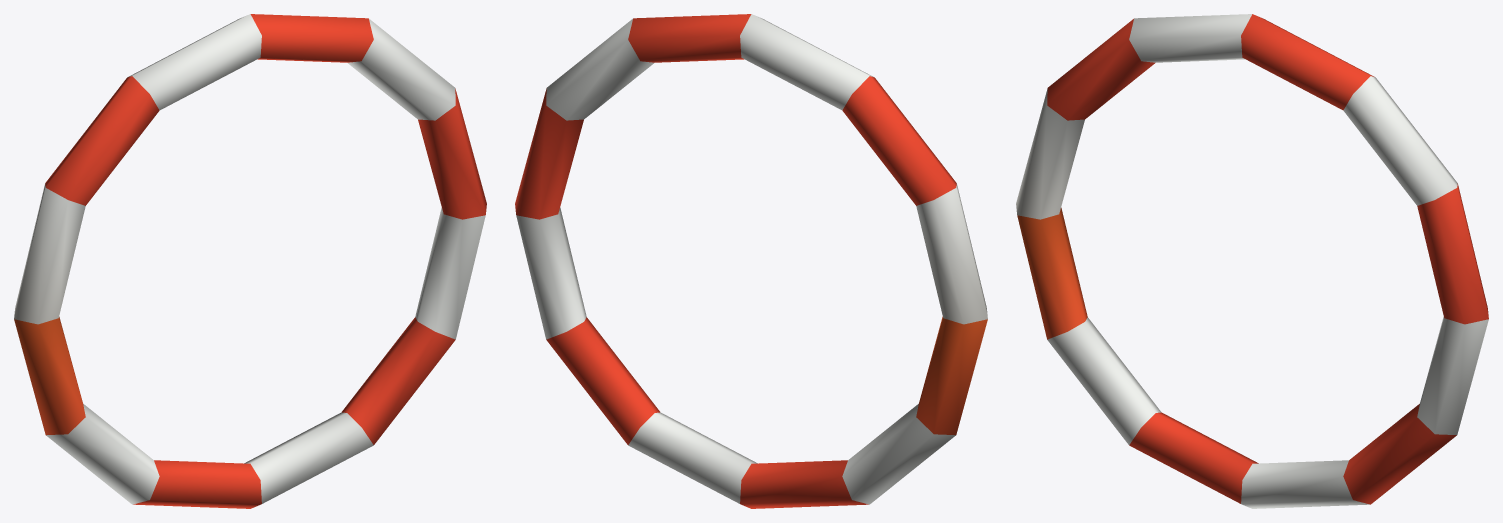
Rendered from hoop.glb.
3 views of the same model, side by side, from view 1: azimuth 30°, elevation 25°; view 2: azimuth 150°, elevation 25°; view 3: azimuth 330°, elevation 25° (orthographic).
Visible parts, largest first — view 1: hoop; view 2: hoop; view 3: hoop.
Boxes of the visible parts, x1,y1,x2,y2 form: hoop: (14,14,486,508); hoop: (515,14,987,508); hoop: (1016,14,1488,508).
Size of the model in its own units: 1.71 by 1.71 by 0.1438.
Materials: 1 (1 with a texture image).
